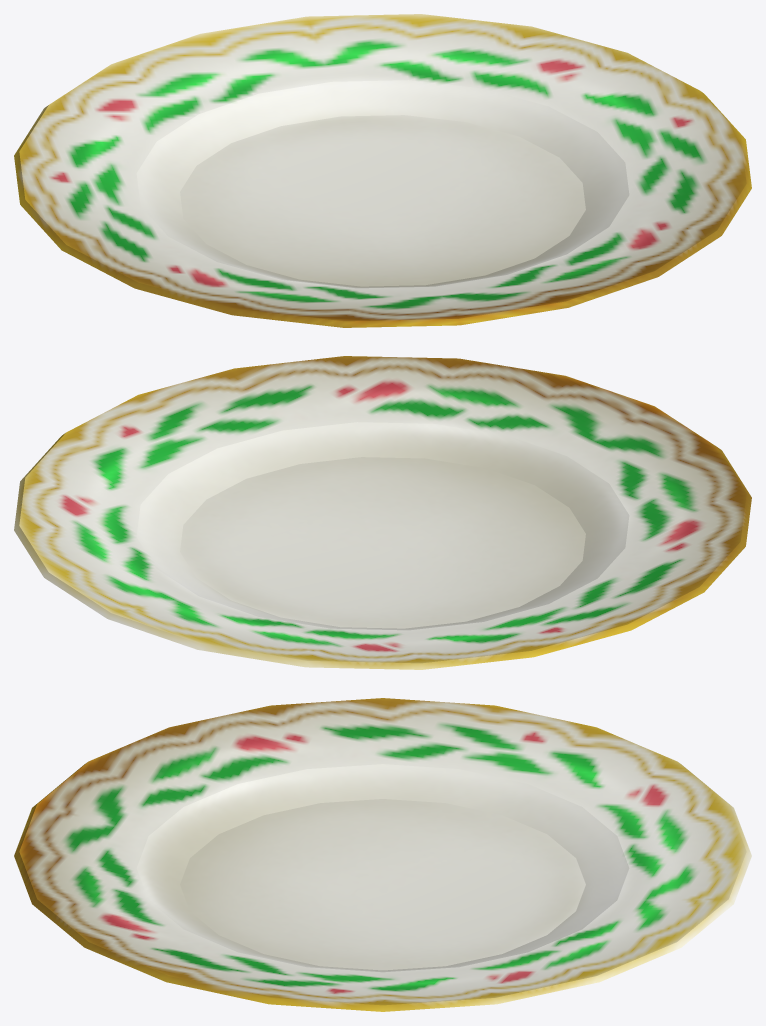
The model's file is G_DanShenHan_panzi_01_uv2.fbx.
3 views of the same model, one above another, from view 1: azimuth 30°, elevation 25°; view 2: azimuth 150°, elevation 25°; view 3: azimuth 270°, elevation 25° (orthographic).
Parts seen in each view (by area): view 1: polySurface5; view 2: polySurface5; view 3: polySurface5.
Part boxes in pixels (box(x1,y1,x2,y2)): polySurface5: box(14, 14, 751, 327); polySurface5: box(14, 356, 751, 669); polySurface5: box(14, 698, 751, 1011).
Bounding box in the file's own units: 38.49 × 4.25 × 38.49.
